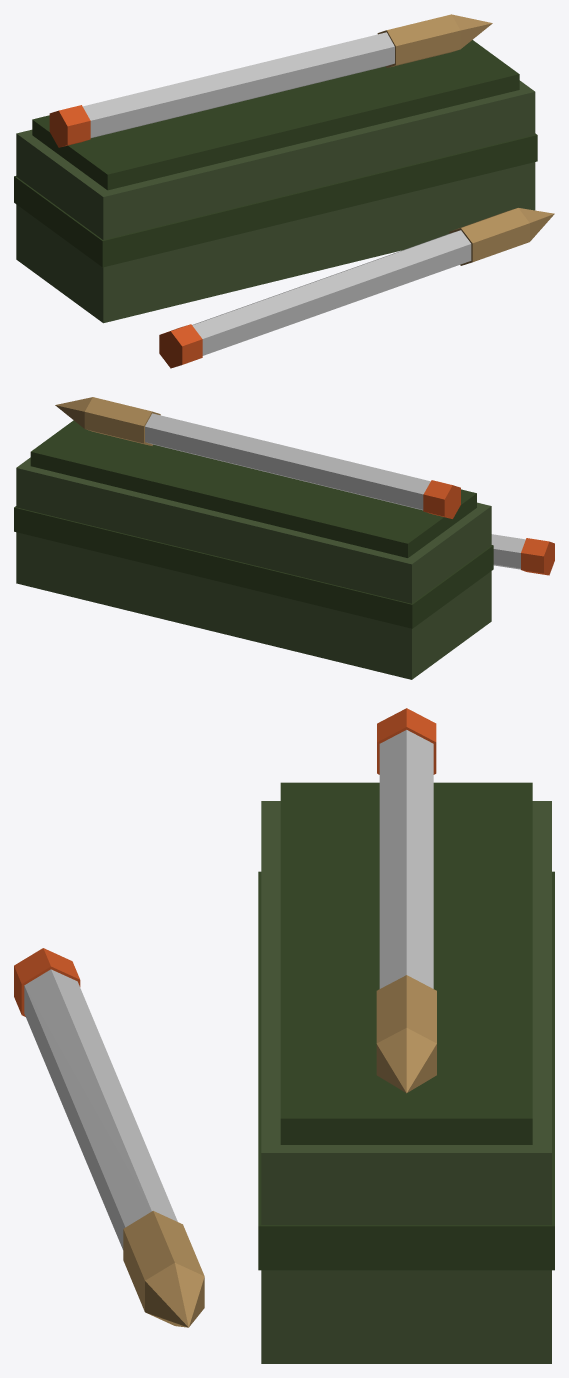
File: ce_ammo2_s5_he_c.obj
3 views of the same model, one above another, from view 1: azimuth 30°, elevation 25°; view 2: azimuth 150°, elevation 25°; view 3: azimuth 270°, elevation 25° (orthographic). The views are drawn at different scales.
Visible parts, largest first — view 1: ce_ammo2_s5_he_c_0, ce_ammo2_s5_he_c_1, ce_ammo2_s5_he_c_2, ce_ammo2_s5_he_c_4, ce_ammo2_s5_he_c_8, ce_ammo2_s5_he_c_5, ce_ammo2_s5_he_c_9, ce_ammo2_s5_he_c_7, ce_ammo2_s5_he_c_3, ce_ammo2_s5_he_c_6, ce_ammo2_s5_he_c_10; view 2: ce_ammo2_s5_he_c_0, ce_ammo2_s5_he_c_1, ce_ammo2_s5_he_c_2, ce_ammo2_s5_he_c_4, ce_ammo2_s5_he_c_5, ce_ammo2_s5_he_c_3, ce_ammo2_s5_he_c_7, ce_ammo2_s5_he_c_8, ce_ammo2_s5_he_c_6; view 3: ce_ammo2_s5_he_c_1, ce_ammo2_s5_he_c_0, ce_ammo2_s5_he_c_8, ce_ammo2_s5_he_c_2, ce_ammo2_s5_he_c_4, ce_ammo2_s5_he_c_9, ce_ammo2_s5_he_c_5, ce_ammo2_s5_he_c_10, ce_ammo2_s5_he_c_6, ce_ammo2_s5_he_c_7, ce_ammo2_s5_he_c_3.
Boxes of the visible parts, x1=… form: ce_ammo2_s5_he_c_0: x1=16, y1=80, x2=535, y2=323; ce_ammo2_s5_he_c_1: x1=32, y1=40, x2=519, y2=190; ce_ammo2_s5_he_c_2: x1=14, y1=133, x2=537, y2=267; ce_ammo2_s5_he_c_4: x1=82, y1=32, x2=394, y2=137; ce_ammo2_s5_he_c_8: x1=192, y1=230, x2=471, y2=355; ce_ammo2_s5_he_c_5: x1=377, y1=14, x2=460, y2=67; ce_ammo2_s5_he_c_9: x1=449, y1=208, x2=529, y2=265; ce_ammo2_s5_he_c_7: x1=159, y1=324, x2=202, y2=368; ce_ammo2_s5_he_c_3: x1=49, y1=105, x2=90, y2=147; ce_ammo2_s5_he_c_6: x1=451, y1=14, x2=492, y2=48; ce_ammo2_s5_he_c_10: x1=518, y1=208, x2=554, y2=241; ce_ammo2_s5_he_c_0: x1=16, y1=457, x2=491, y2=679; ce_ammo2_s5_he_c_1: x1=30, y1=420, x2=476, y2=557; ce_ammo2_s5_he_c_2: x1=14, y1=506, x2=493, y2=628; ce_ammo2_s5_he_c_4: x1=145, y1=413, x2=430, y2=510; ce_ammo2_s5_he_c_5: x1=84, y1=397, x2=160, y2=445; ce_ammo2_s5_he_c_3: x1=423, y1=480, x2=460, y2=518; ce_ammo2_s5_he_c_7: x1=521, y1=538, x2=554, y2=575; ce_ammo2_s5_he_c_8: x1=491, y1=534, x2=525, y2=569; ce_ammo2_s5_he_c_6: x1=55, y1=397, x2=92, y2=428; ce_ammo2_s5_he_c_1: x1=280, y1=782, x2=532, y2=1144; ce_ammo2_s5_he_c_0: x1=261, y1=801, x2=551, y2=1363; ce_ammo2_s5_he_c_8: x1=24, y1=969, x2=177, y2=1249; ce_ammo2_s5_he_c_2: x1=258, y1=871, x2=554, y2=1270; ce_ammo2_s5_he_c_4: x1=379, y1=730, x2=433, y2=988; ce_ammo2_s5_he_c_9: x1=123, y1=1211, x2=204, y2=1311; ce_ammo2_s5_he_c_5: x1=376, y1=975, x2=436, y2=1043; ce_ammo2_s5_he_c_10: x1=145, y1=1263, x2=204, y2=1327; ce_ammo2_s5_he_c_6: x1=376, y1=1028, x2=436, y2=1093; ce_ammo2_s5_he_c_7: x1=14, y1=948, x2=80, y2=1016; ce_ammo2_s5_he_c_3: x1=377, y1=708, x2=436, y2=774.
Size of the model in its own units: 0.866 by 0.3453 by 0.5583.
